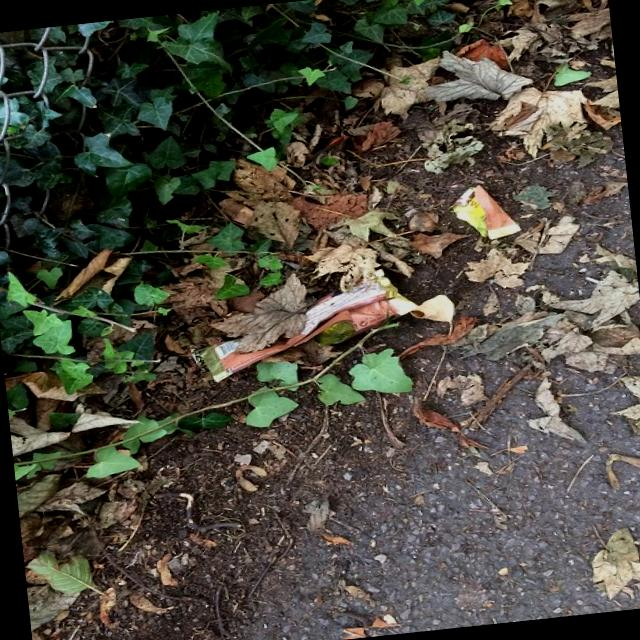Trash: (190, 236, 423, 370)
